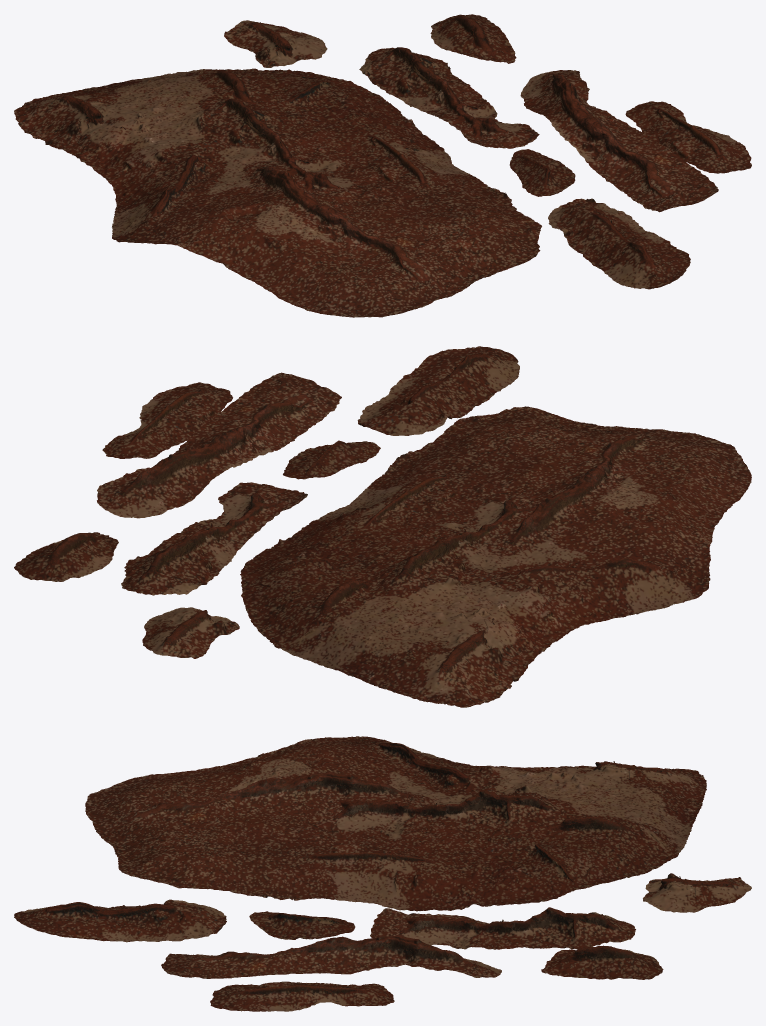
The model's file is root_cluster_02_1k.glb.
3 renders of one model, top to bottom at view 1: azimuth 30°, elevation 25°; view 2: azimuth 150°, elevation 25°; view 3: azimuth 270°, elevation 25°, orthographic. The views are drawn at different scales.
Parts seen in each view (by area): view 1: root_cluster_02_d; view 2: root_cluster_02_d; view 3: root_cluster_02_d.
Part boxes in pixels (left/top/right/bottom): root_cluster_02_d: left=14, top=14, right=751, bottom=317; root_cluster_02_d: left=14, top=346, right=751, bottom=707; root_cluster_02_d: left=14, top=736, right=751, bottom=1011.
Size of the model in its own units: 2.38 by 0.1985 by 2.71.
Materials: 1 (1 with a texture image).
